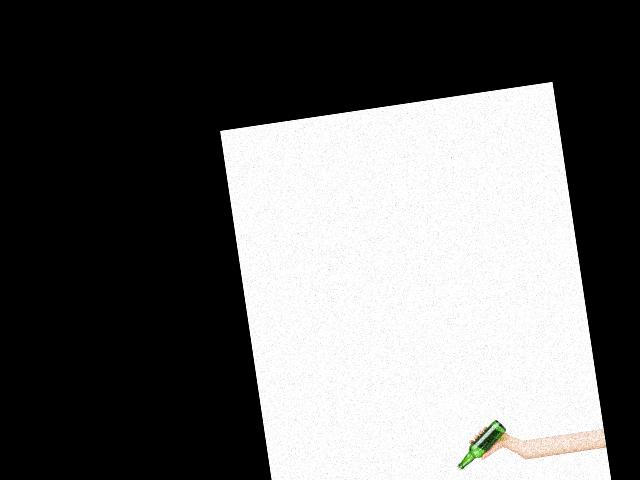beer: (452, 419, 512, 471)
